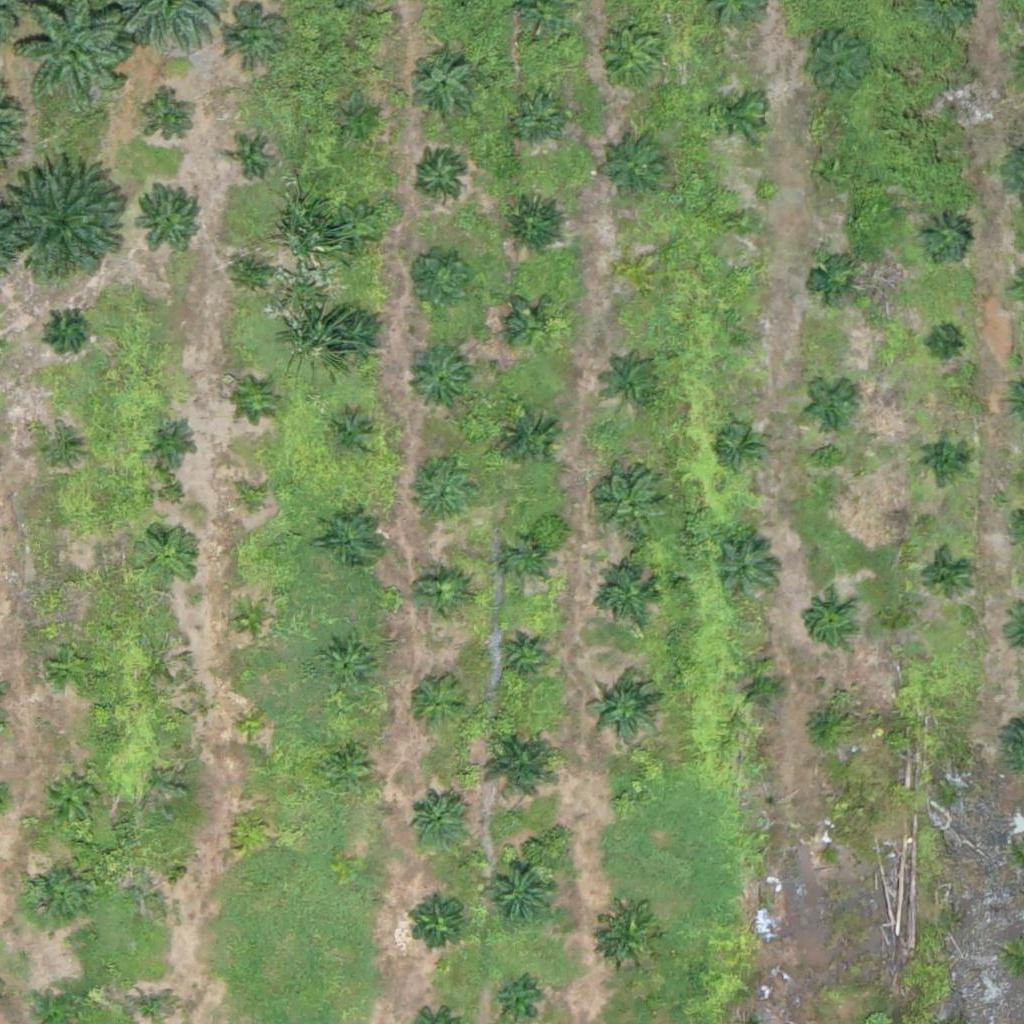Kelapa_Sawit: (8, 163, 133, 288), (478, 722, 565, 810), (586, 673, 661, 749), (400, 243, 475, 319), (481, 853, 556, 928), (132, 179, 207, 254), (798, 24, 873, 99), (404, 671, 467, 734), (409, 464, 472, 527), (407, 788, 470, 851), (715, 537, 778, 600), (598, 905, 661, 968), (23, 862, 86, 925), (322, 507, 385, 570), (318, 637, 381, 700), (323, 307, 386, 370), (219, 6, 282, 69), (603, 136, 666, 199), (502, 191, 565, 254), (408, 348, 470, 411), (405, 891, 467, 954), (498, 408, 560, 471), (598, 565, 660, 628), (600, 475, 663, 537), (606, 353, 668, 416), (41, 765, 103, 828), (409, 50, 471, 113), (603, 26, 665, 89), (137, 525, 199, 588), (918, 550, 968, 601), (327, 411, 377, 462), (146, 96, 196, 147), (711, 86, 761, 137), (918, 211, 968, 262), (736, 663, 786, 714), (798, 698, 848, 749), (334, 205, 384, 256), (416, 570, 466, 620), (920, 433, 970, 483), (808, 378, 858, 428), (508, 300, 558, 350), (715, 421, 765, 471), (803, 596, 853, 646), (321, 738, 371, 788), (416, 152, 466, 202), (510, 93, 560, 143), (810, 258, 860, 308), (147, 416, 197, 466), (47, 641, 97, 691), (497, 631, 546, 682), (241, 381, 279, 419), (48, 309, 86, 347), (818, 154, 856, 192), (341, 98, 379, 136), (234, 482, 272, 520), (232, 601, 270, 639), (234, 708, 272, 746), (230, 808, 268, 846), (507, 540, 544, 578), (42, 433, 79, 471), (54, 562, 91, 600), (137, 860, 174, 898), (232, 143, 269, 180), (236, 253, 273, 290), (941, 87, 966, 112), (930, 330, 955, 355), (729, 323, 754, 348), (729, 207, 754, 232), (624, 261, 649, 286), (813, 841, 838, 866), (614, 788, 639, 813)
